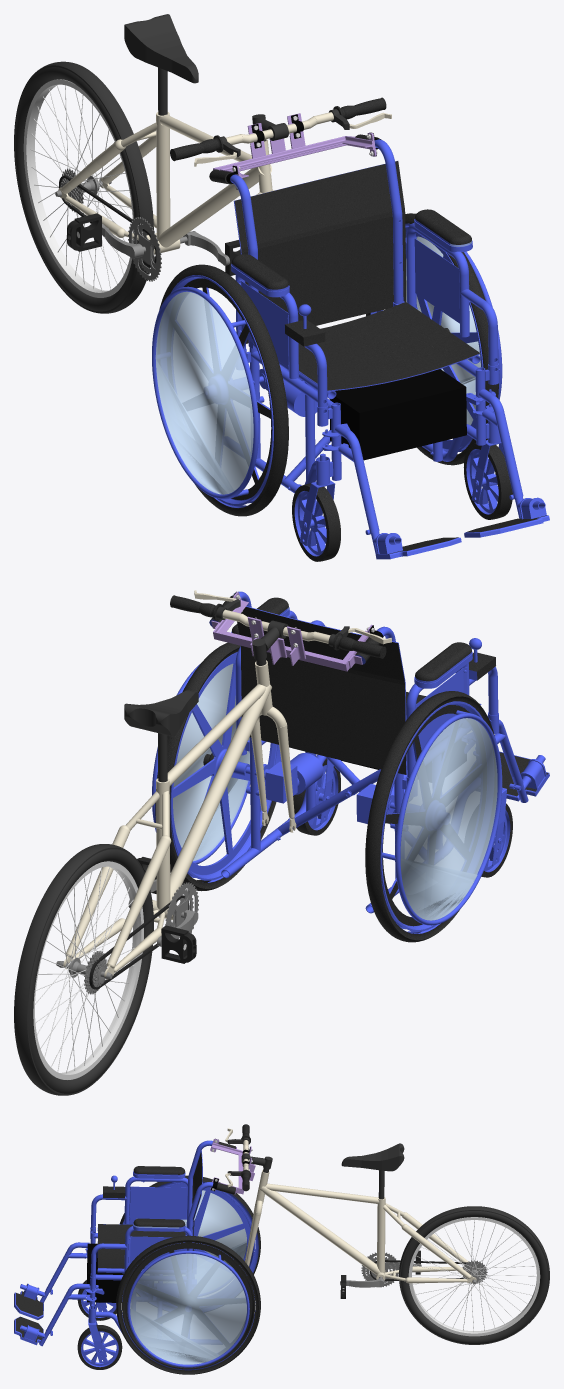
Rendered from KIT_BICI.glb.
3 renders of one model, top to bottom at view 1: azimuth 30°, elevation 25°; view 2: azimuth 150°, elevation 25°; view 3: azimuth 270°, elevation 25°, orthographic. The views are drawn at different scales.
Parts seen in each view (by area): view 1: KIT_BICI; view 2: KIT_BICI; view 3: KIT_BICI.
Part boxes in pixels (x1,y1,x2,y2): KIT_BICI: (14, 14, 549, 561); KIT_BICI: (14, 590, 549, 1095); KIT_BICI: (14, 1124, 549, 1374).
Size of the model in its own units: 0.7558 by 0.962 by 2.41.
Materials: 25 (1 with a texture image).
